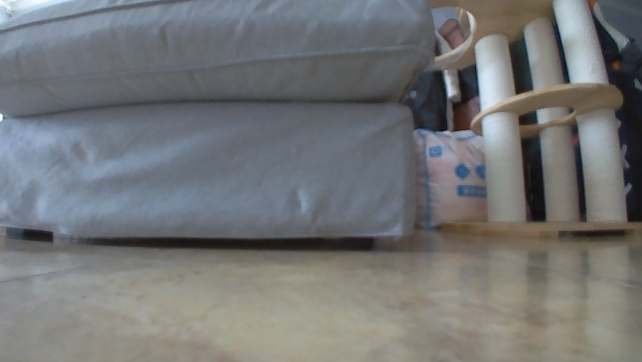sofa1: (0, 0, 444, 255)
